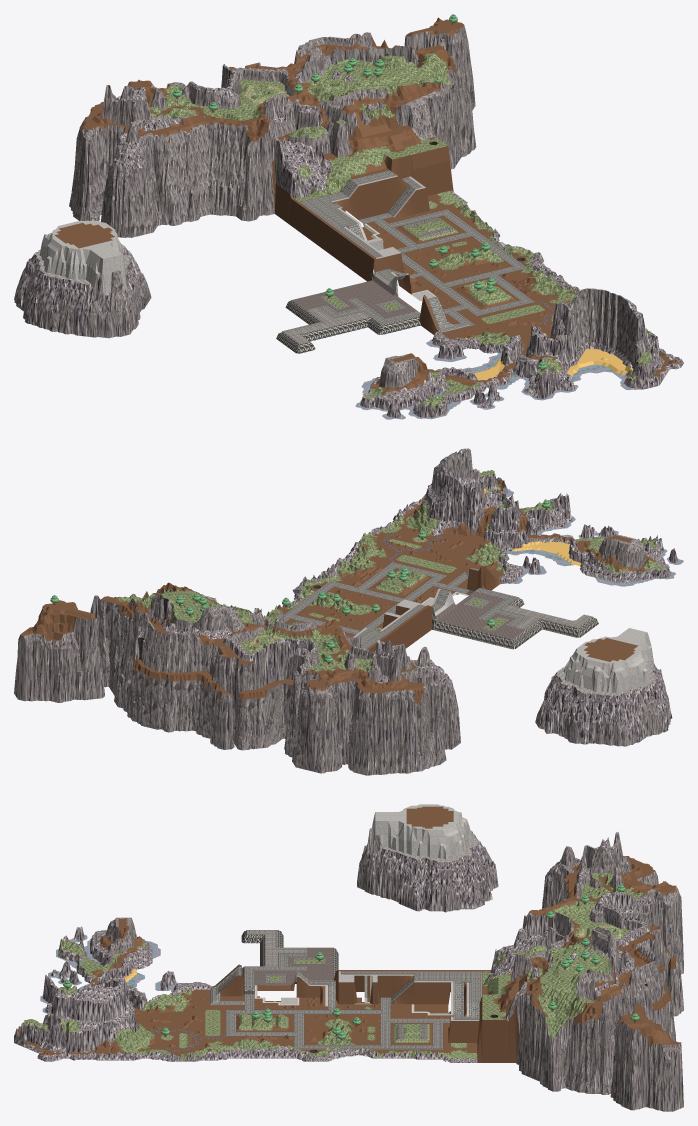
Rendered from Citadel.obj.
3 renders of one model, top to bottom at view 1: azimuth 30°, elevation 25°; view 2: azimuth 150°, elevation 25°; view 3: azimuth 270°, elevation 25°, orthographic. The views are drawn at different scales.
Parts seen in each view (by area): view 1: Geod0.Geod0_Geod0.001; view 2: Geod0.Geod0_Geod0.001; view 3: Geod0.Geod0_Geod0.001.
Boxes of the visible parts, box(x1,y1,x2,y2) form: Geod0.Geod0_Geod0.001: box(14, 17, 683, 419); Geod0.Geod0_Geod0.001: box(14, 448, 683, 775); Geod0.Geod0_Geod0.001: box(14, 804, 683, 1111).
Size of what is drawn, in the model's own units: 2.3 by 0.459 by 2.56.
